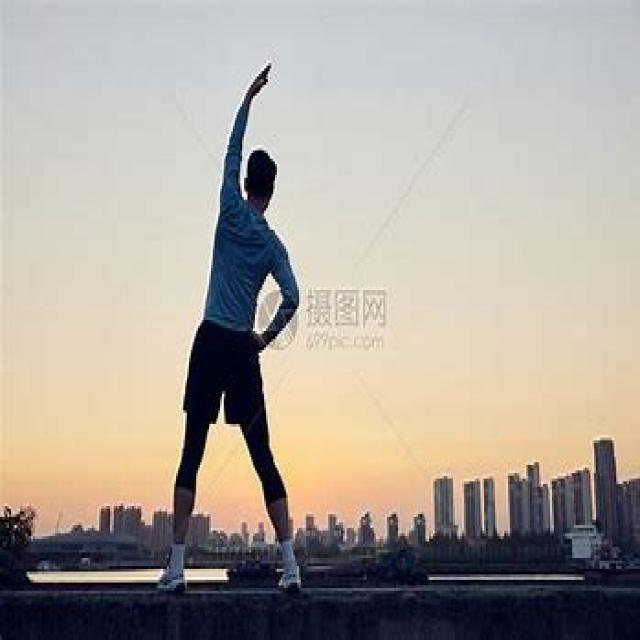stand: (175, 112, 298, 595)
